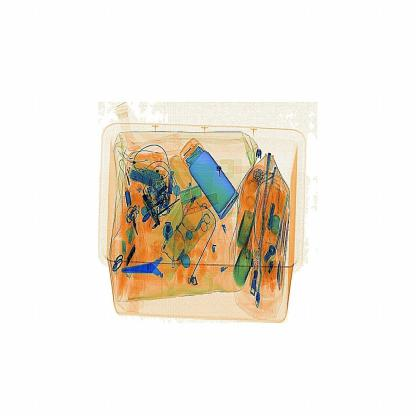gun: (119, 247, 192, 292)
